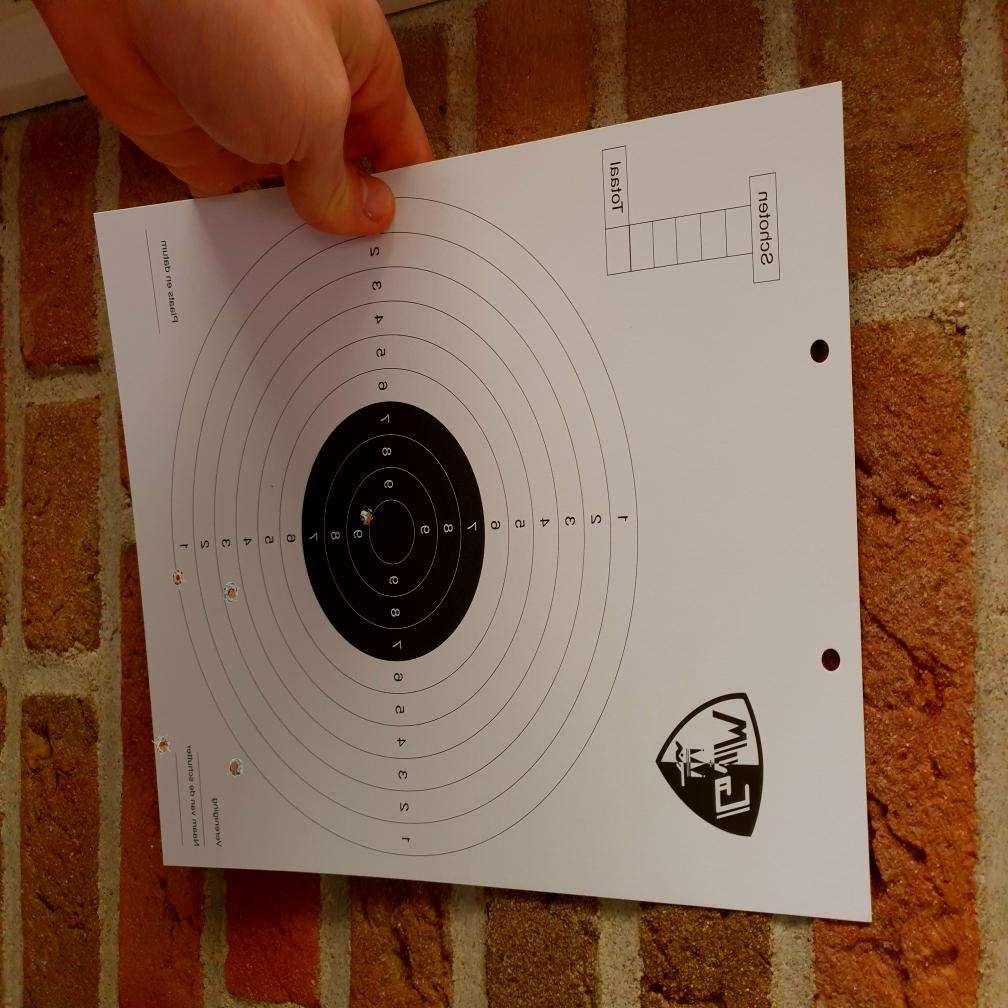0: (155, 734, 171, 756), (229, 757, 244, 778)
1: (172, 569, 186, 588)
10: (360, 504, 374, 526)
3: (224, 581, 240, 603)
Target: (171, 204, 639, 858)
black_contour: (302, 401, 486, 660)
